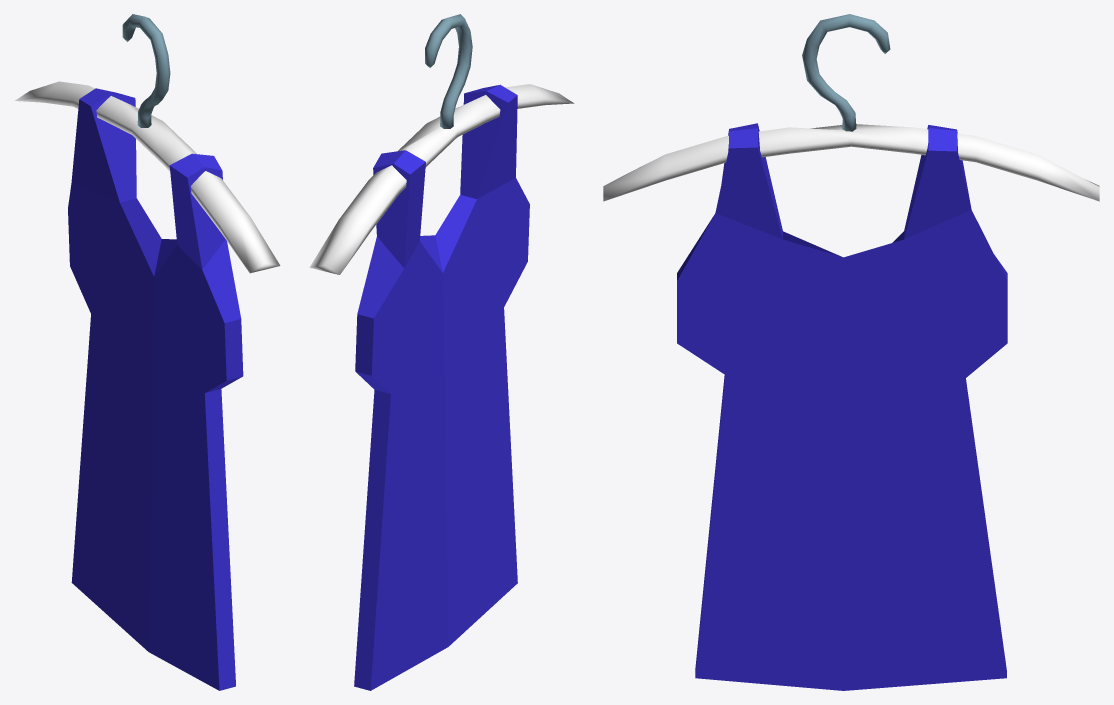
Rendered from shirt3.fbx.
3 views of the same model, side by side, from view 1: azimuth 30°, elevation 25°; view 2: azimuth 150°, elevation 25°; view 3: azimuth 270°, elevation 25° (orthographic). The views are drawn at different scales.
Parts seen in each view (by area): view 1: Cylinder.001, Cube.020; view 2: Cylinder.001, Cube.020; view 3: Cylinder.001, Cube.020.
Boxes of the visible parts, left/top/right/bottom form: Cylinder.001: left=68, top=88, right=243, bottom=690; Cube.020: left=15, top=14, right=280, bottom=273; Cylinder.001: left=354, top=84, right=529, bottom=690; Cube.020: left=309, top=14, right=574, bottom=274; Cylinder.001: left=677, top=123, right=1007, bottom=690; Cube.020: left=603, top=14, right=1099, bottom=201.
Bounding box in the file's own units: 20.66 × 268 × 181.
